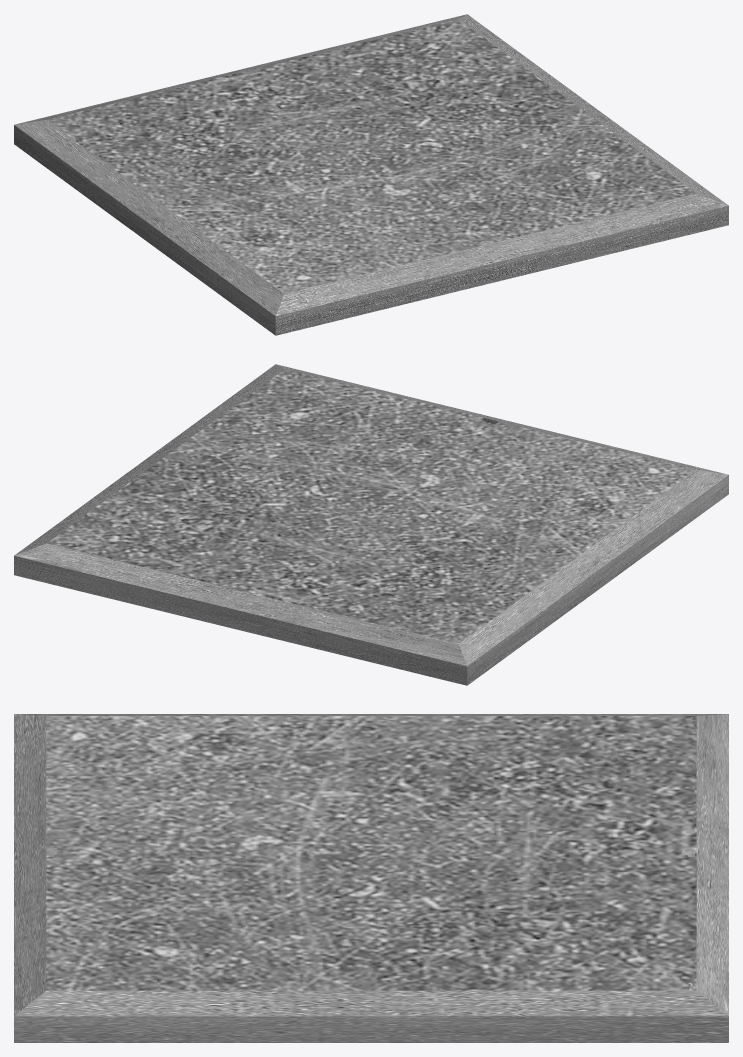
The model's file is piso trampa.fbx.
3 renders of one model, top to bottom at view 1: azimuth 30°, elevation 25°; view 2: azimuth 150°, elevation 25°; view 3: azimuth 270°, elevation 25°, orthographic. The views are drawn at different scales.
Visible parts, largest first — view 1: Cubo; view 2: Cubo; view 3: Cubo.
Part boxes in pixels (x1,y1,x2,y2): Cubo: (14,14,728,335); Cubo: (14,364,728,685); Cubo: (14,714,728,1042).
Size of the model in its own units: 200 by 11.86 by 200.
1 material, 1 textured.
